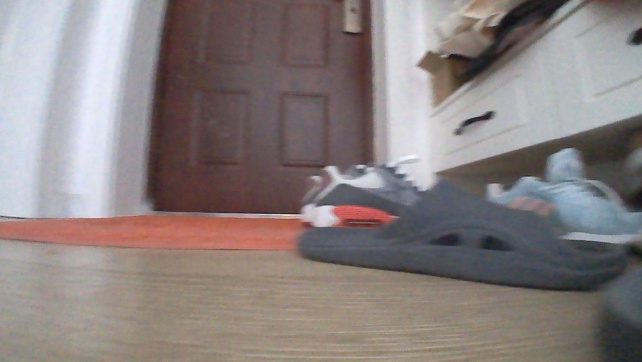blanket: (0, 208, 323, 254)
door: (140, 0, 382, 215)
shoe: (482, 145, 641, 246), (294, 154, 435, 229)
slipper: (293, 175, 632, 295)
